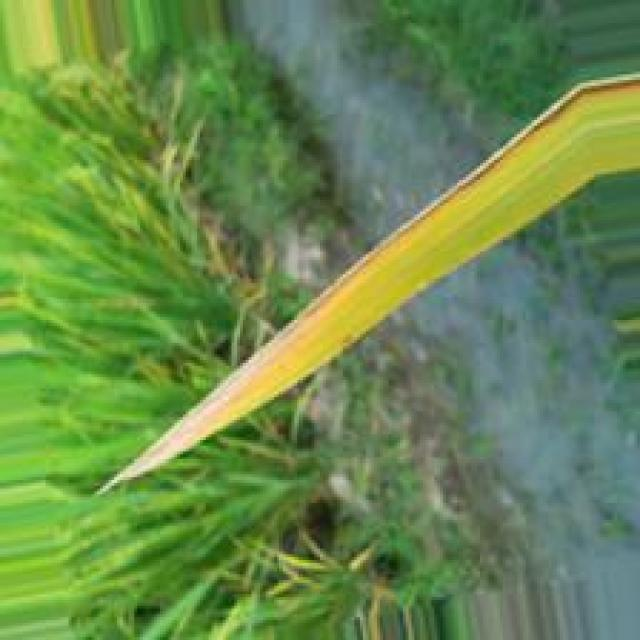Bacterial_Leaf_Blight: (93, 66, 640, 493)
